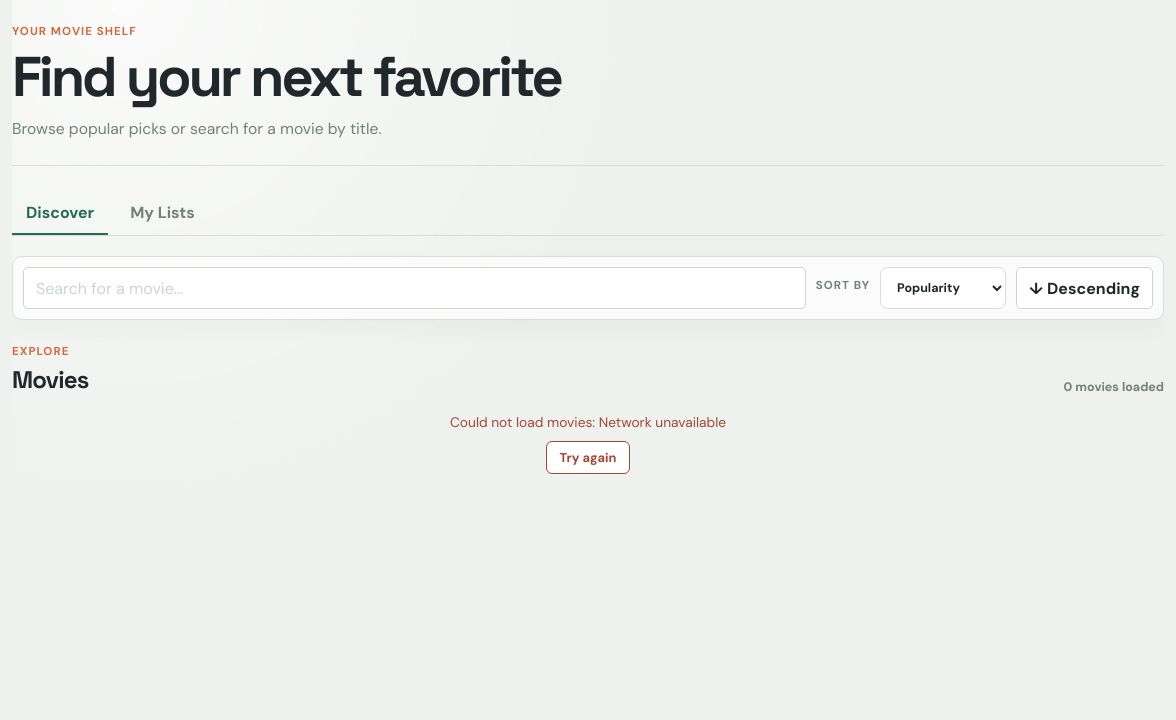
MovieApp › shows fetch errors and retries the request
The image size is (1176, 720).
Expected: the text "Could not load movies: Network unavailable" is shown, [450, 413, 726, 431]
Click the button "Try again" at point(588, 458), box [546, 441, 630, 474]
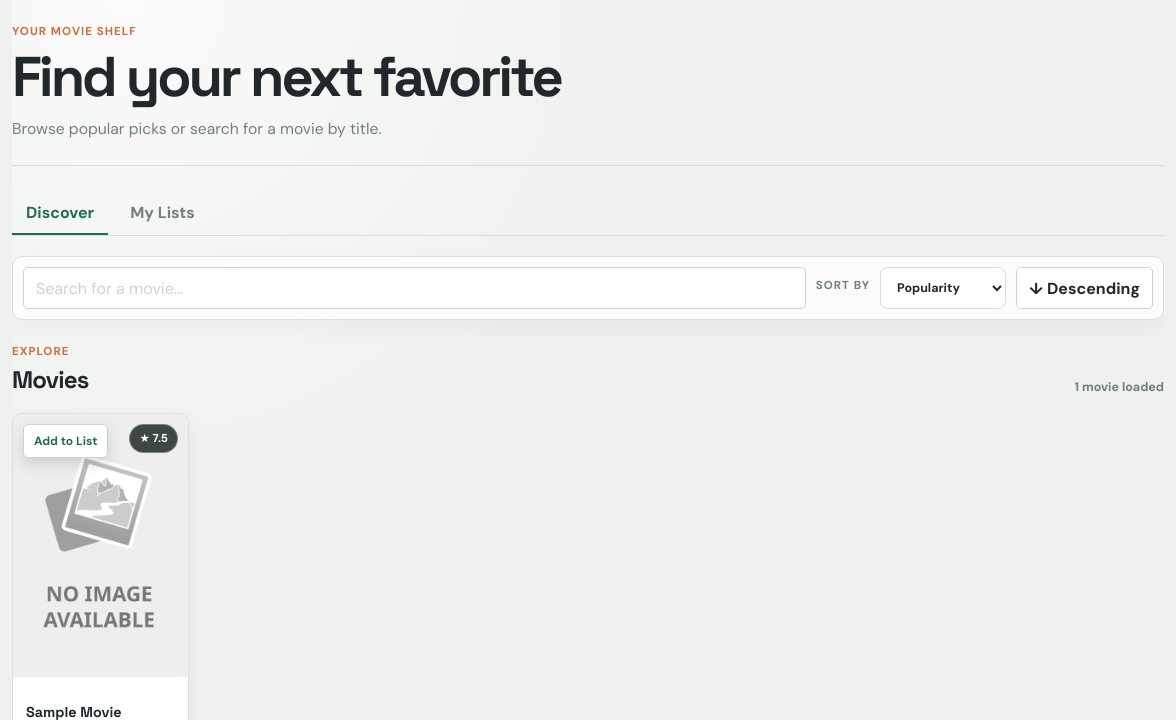
Expected: the text "Sample Movie" is shown, [26, 703, 122, 719]
